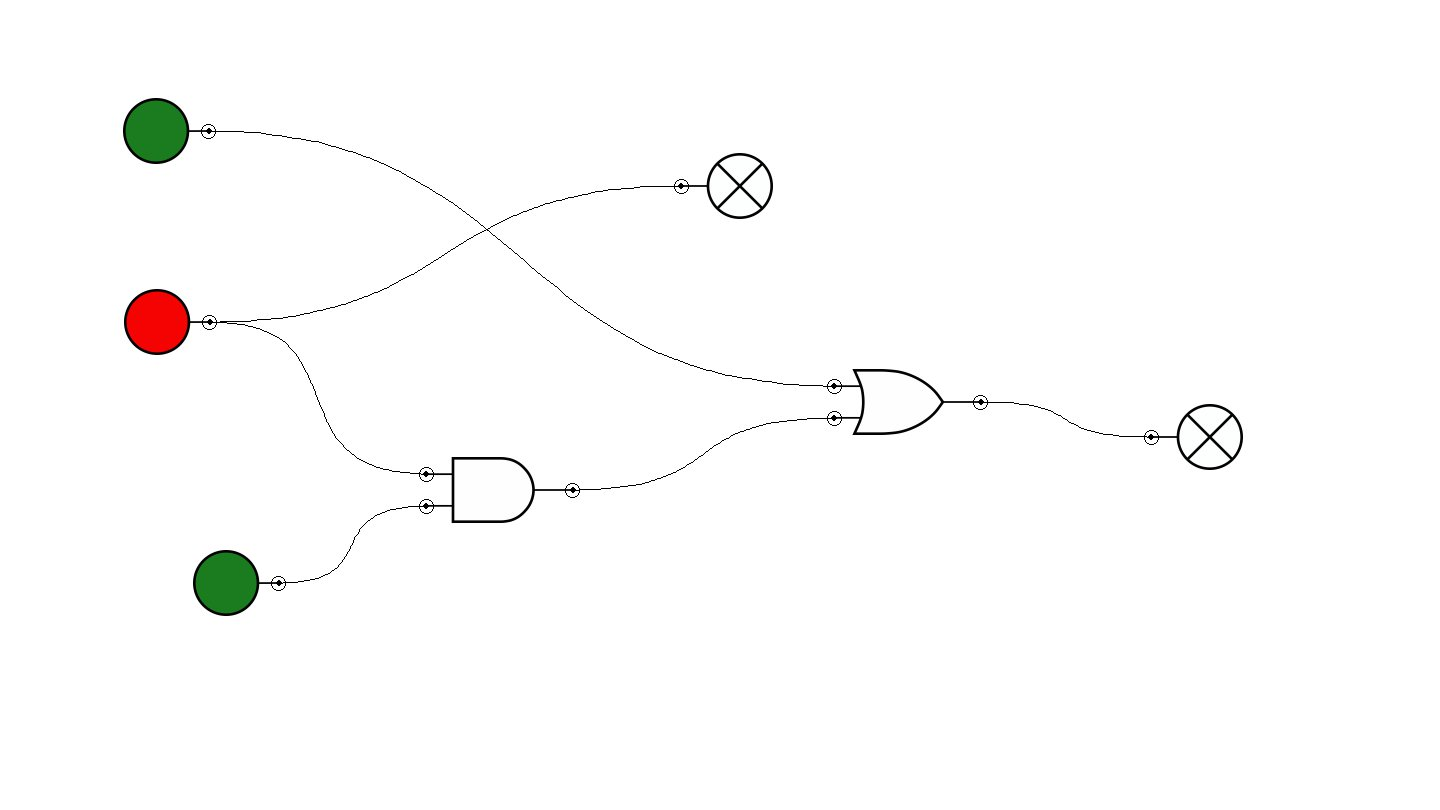and: (419, 457, 580, 523)
bulb: (1144, 404, 1243, 470), (674, 153, 773, 219)
or: (827, 369, 988, 435)
switch_False: (124, 289, 217, 355)
switch_True: (123, 98, 216, 164), (193, 550, 286, 616)
